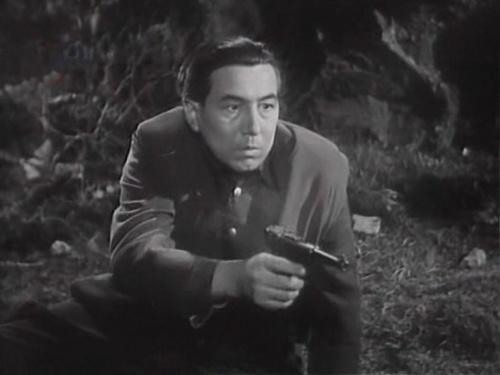Gun: (264, 224, 351, 279)
